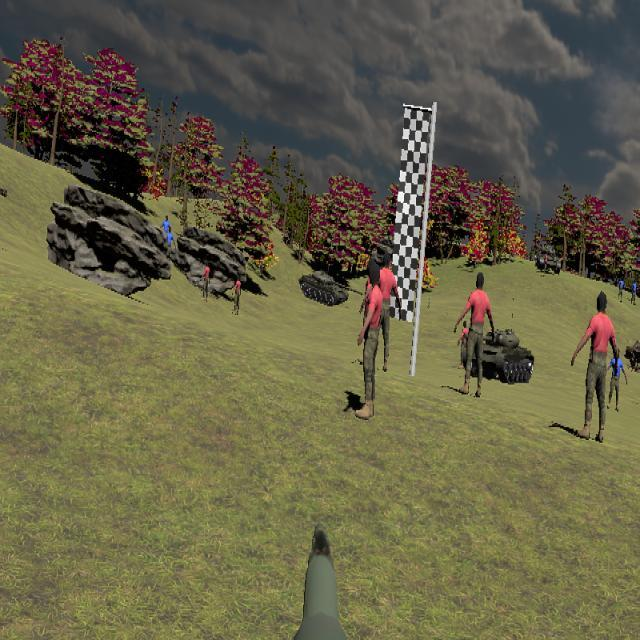Human: (570, 290, 620, 440), (455, 272, 495, 396), (356, 259, 385, 419), (375, 251, 402, 375), (604, 346, 627, 411)
Tank: (459, 327, 535, 385), (298, 270, 357, 307), (626, 333, 640, 372)
